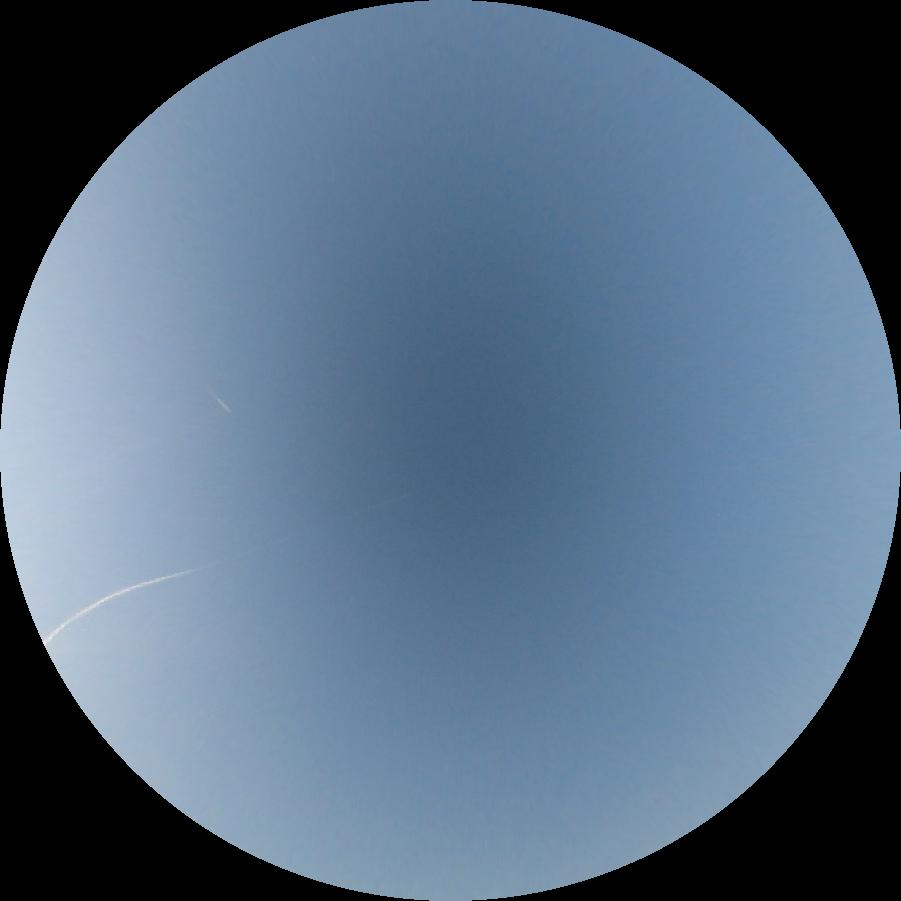contrail old: (44, 495, 410, 646)
contrail young: (206, 390, 232, 414)
